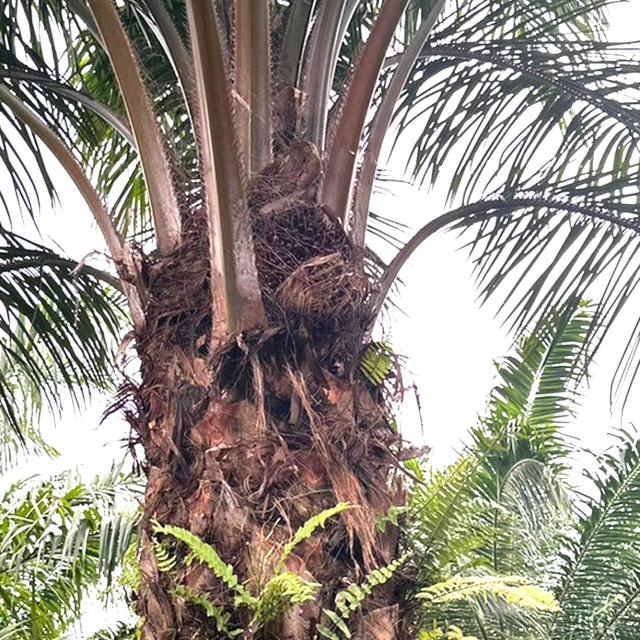ripe: (258, 195, 344, 272)
